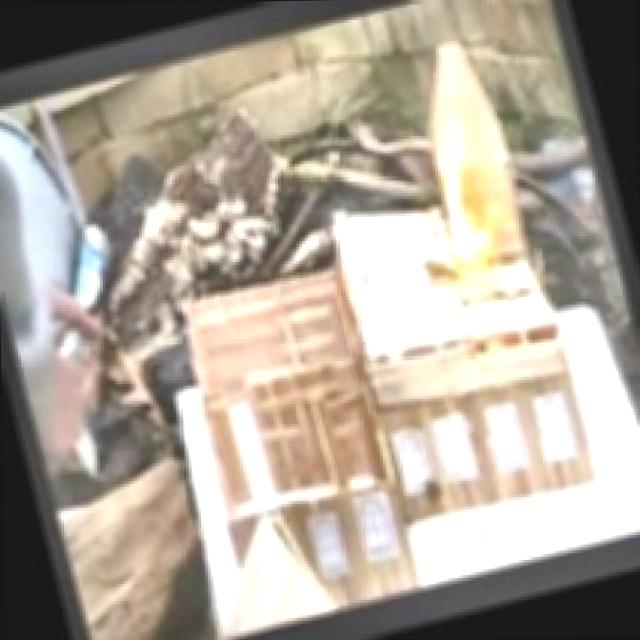fire: (409, 121, 538, 280)
